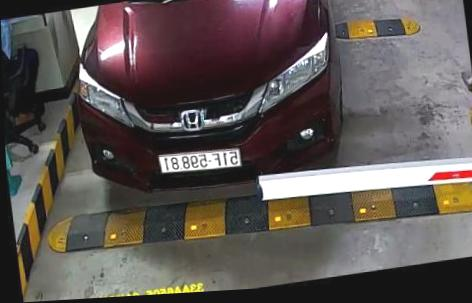License_Plate: (154, 143, 241, 178)
